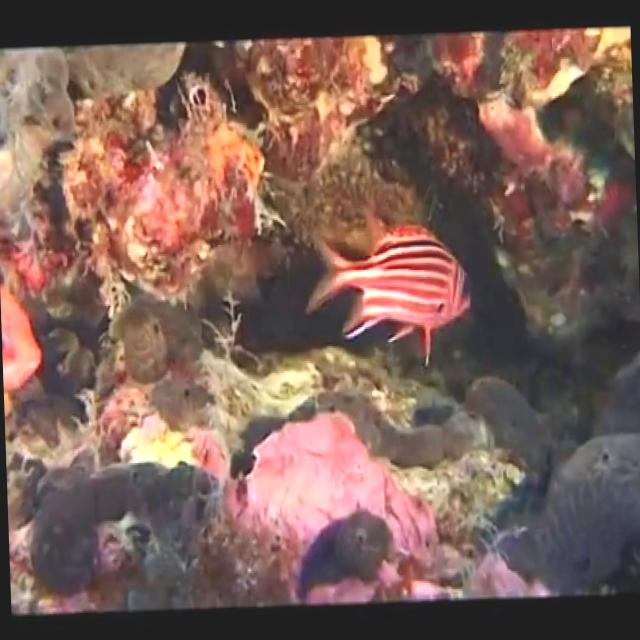Asker Baligi: (299, 217, 474, 371)
